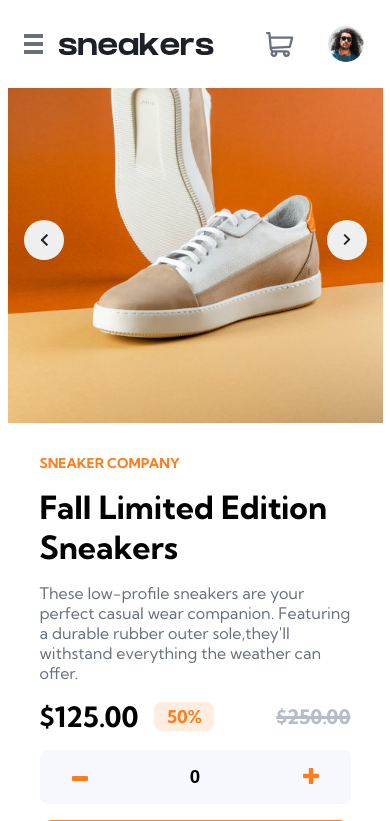
Test: Popup Nav Functionality › Check if we can open the popup nav element
Step 1. Click the button named "open popup nav menu" → (34, 44), box [24,33,43,55]
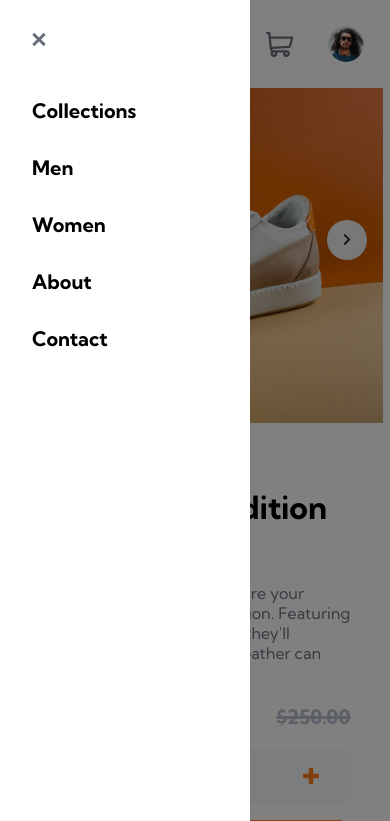
Expected: the button named "close popup nav menu" is shown, [32,32,46,50]
